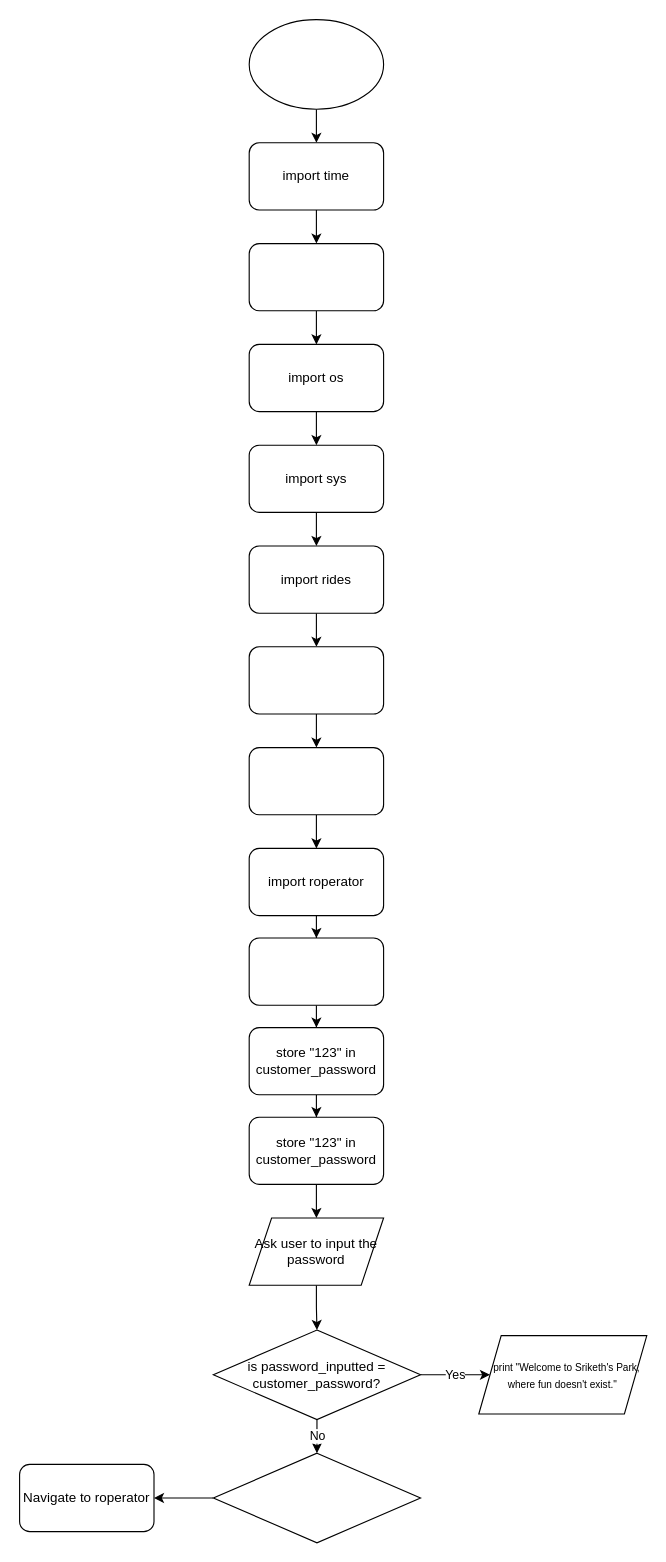
Some shapes in this 666 by 1562 pixel diagram are drawn without their labels. The box of each missing label's shape, as (x1, y1, x2, y2) in pixels:
import concessions: (248, 646, 384, 714)
import datetime from datetime: (248, 242, 384, 311)
import general: (248, 746, 384, 815)
import track from rich.progress: (248, 937, 384, 1005)
is password_inputted = ride_operator_password?: (212, 1452, 421, 1543)
Start: (248, 18, 384, 109)
